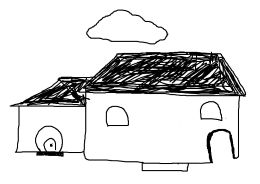clouds: (82, 7, 172, 47)
door: (203, 126, 242, 169), (31, 121, 65, 162)
open_window: (198, 101, 224, 122), (104, 106, 129, 126)
shaded_roof: (81, 49, 250, 100), (8, 72, 97, 113)
wall: (81, 88, 243, 166)
